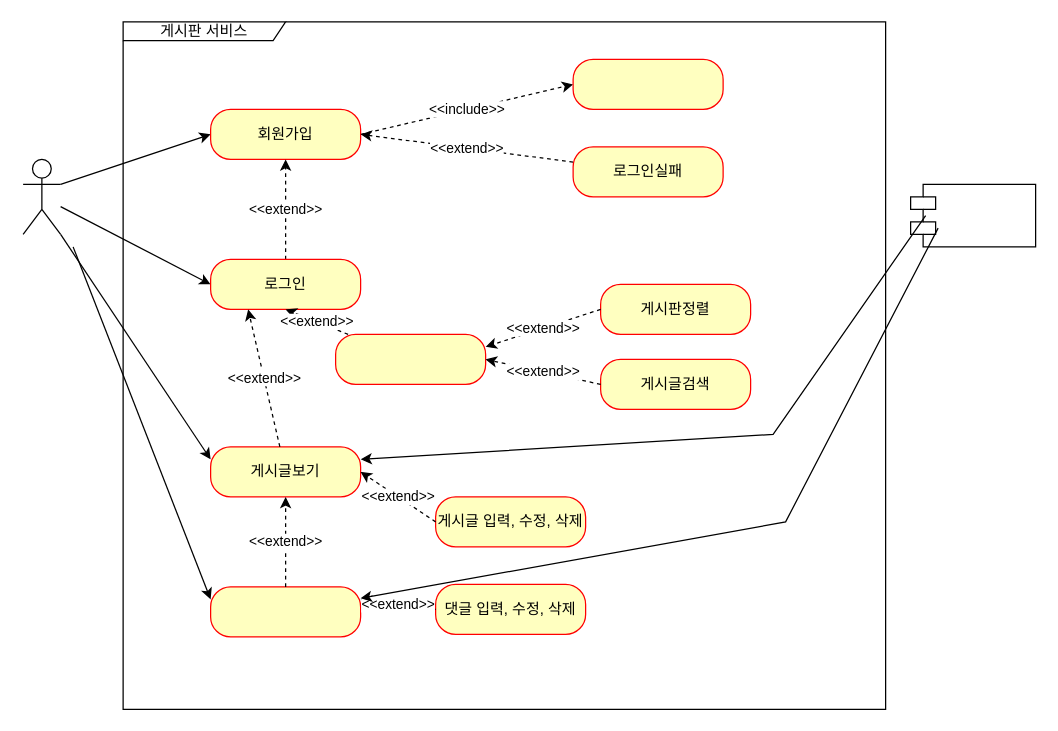
This 1058x731 diagram has some shape labels left out. The box of each missing label's shape, as (x1, y1, x2, y2) in pixels:
DB: (909, 183, 1036, 247)
게시판보기: (334, 333, 486, 384)
댓글 보기: (209, 586, 361, 637)
사용자: (22, 158, 61, 234)
인증: (572, 58, 723, 109)
